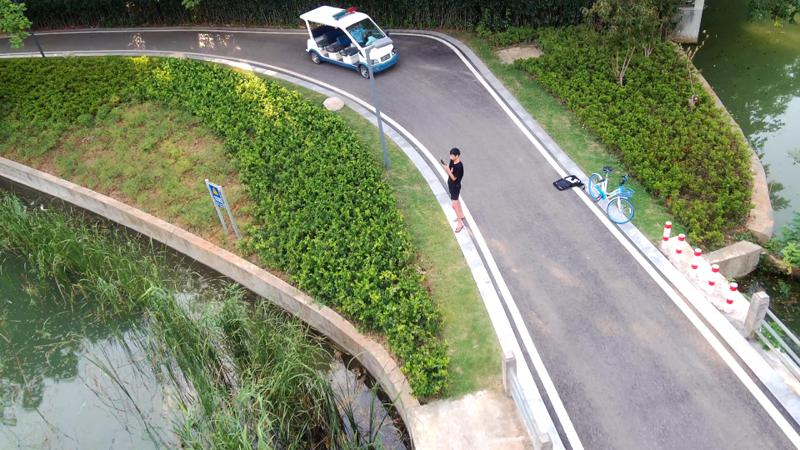passerby: (439, 147, 466, 234)
